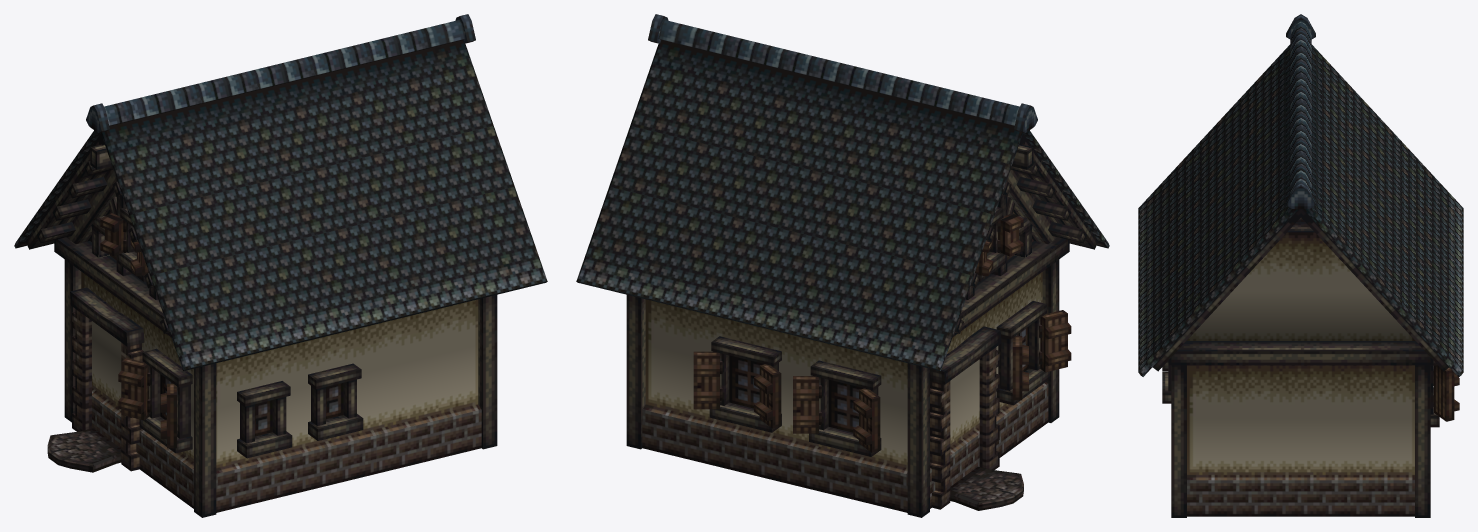
File: EnvBdgMD_Mount_A_Outdoor_House_C.FBX
The picture shows the model from 3 angles, left to right: view 1: azimuth 30°, elevation 25°; view 2: azimuth 150°, elevation 25°; view 3: azimuth 270°, elevation 25°; orthographic projection. The views are drawn at different scales.
Parts seen in each view (by area): view 1: EnvBdgMD_Mount_A_Outdoor_House_C; view 2: EnvBdgMD_Mount_A_Outdoor_House_C; view 3: EnvBdgMD_Mount_A_Outdoor_House_C.
Boxes of the visible parts, bbox=[...] form: EnvBdgMD_Mount_A_Outdoor_House_C: bbox=[14, 14, 547, 517]; EnvBdgMD_Mount_A_Outdoor_House_C: bbox=[576, 14, 1109, 517]; EnvBdgMD_Mount_A_Outdoor_House_C: bbox=[1138, 14, 1463, 517].
Bounding box in the file's own units: 685 × 626 × 527.
Materials: 1 (1 with a texture image).
